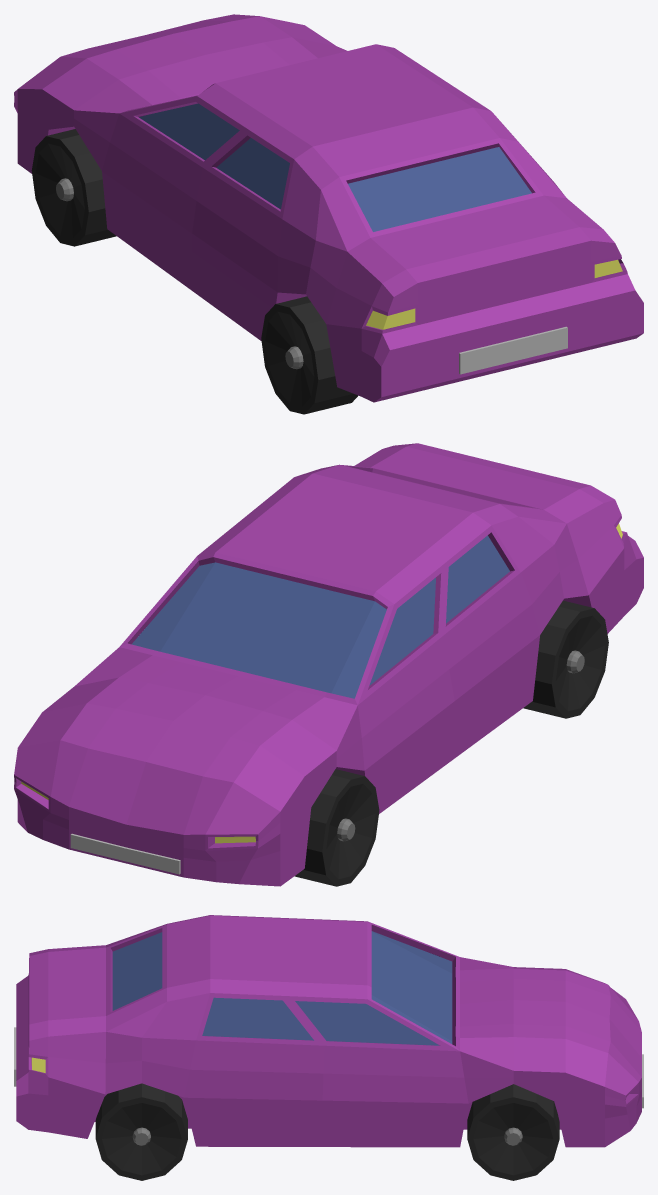
File: CarPink.fbx
The picture shows the model from 3 angles, top to bottom: view 1: azimuth 30°, elevation 25°; view 2: azimuth 150°, elevation 25°; view 3: azimuth 270°, elevation 25°; orthographic projection. The views are drawn at different scales.
Visible parts, largest first — view 1: Car1.005; view 2: Car1.005; view 3: Car1.005.
Part boxes in pixels (<box>): Car1.005: <box>14,14,643,414</box>; Car1.005: <box>14,443,643,886</box>; Car1.005: <box>14,915,643,1180</box>.
Size of the model in its own units: 125 by 89.14 by 289.
